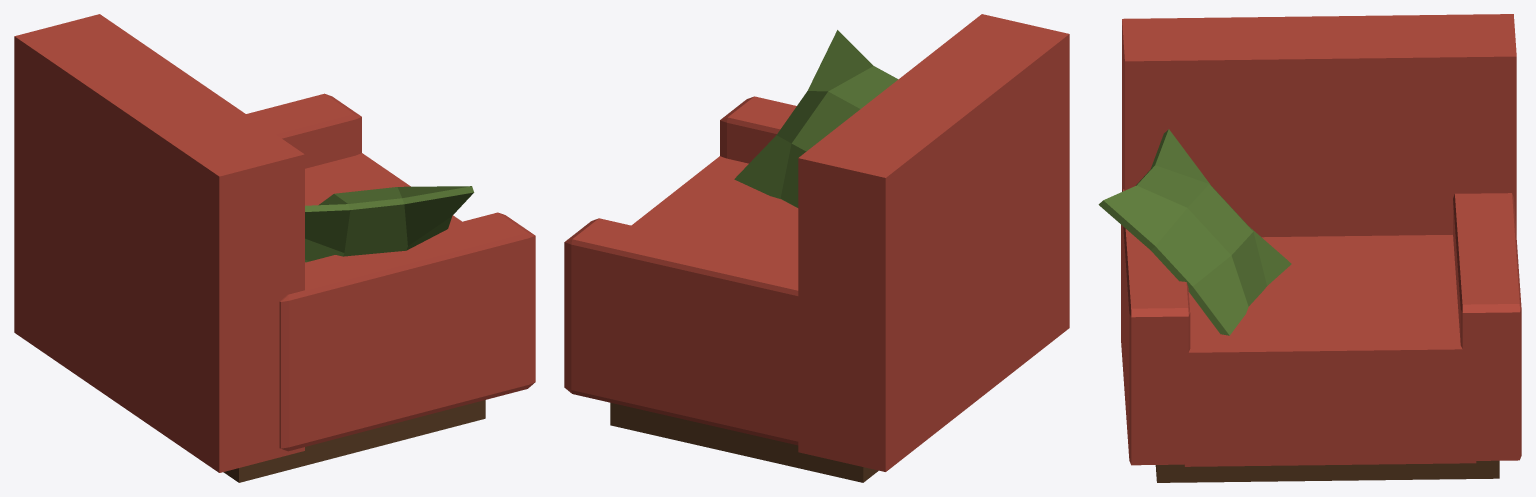
Rendered from diivanitool.fbx.
3 views of the same model, side by side, from view 1: azimuth 30°, elevation 25°; view 2: azimuth 150°, elevation 25°; view 3: azimuth 270°, elevation 25° (orthographic).
Visible parts, largest first — view 1: Cube.009; view 2: Cube.009; view 3: Cube.009.
Boxes of the visible parts, x1,y1,x2,y2 form: Cube.009: (14,14,535,482); Cube.009: (564,14,1069,482); Cube.009: (1098,14,1521,482).
Bounding box in the file's own units: 178 × 166 × 196.
